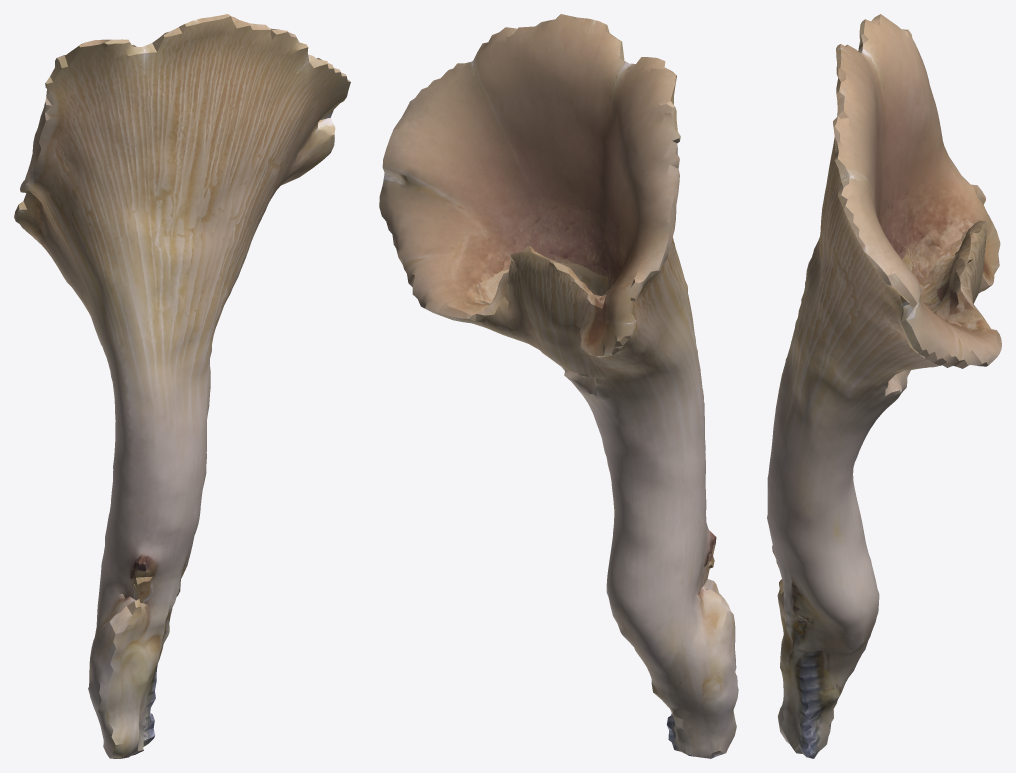
File: austernSeitling_reduced.glb
The picture shows the model from 3 angles, left to right: view 1: azimuth 30°, elevation 25°; view 2: azimuth 150°, elevation 25°; view 3: azimuth 270°, elevation 25°; orthographic projection. The views are drawn at different scales.
Visible parts, largest first — view 1: austernseitling_lp; view 2: austernseitling_lp; view 3: austernseitling_lp.
Boxes of the visible parts, x1=… form: austernseitling_lp: x1=14, y1=14, x2=350, y2=758; austernseitling_lp: x1=379, y1=14, x2=738, y2=758; austernseitling_lp: x1=767, y1=14, x2=1001, y2=758.
Size of the model in its own units: 0.1881 by 0.4317 by 0.1234.
1 material, 1 textured.
